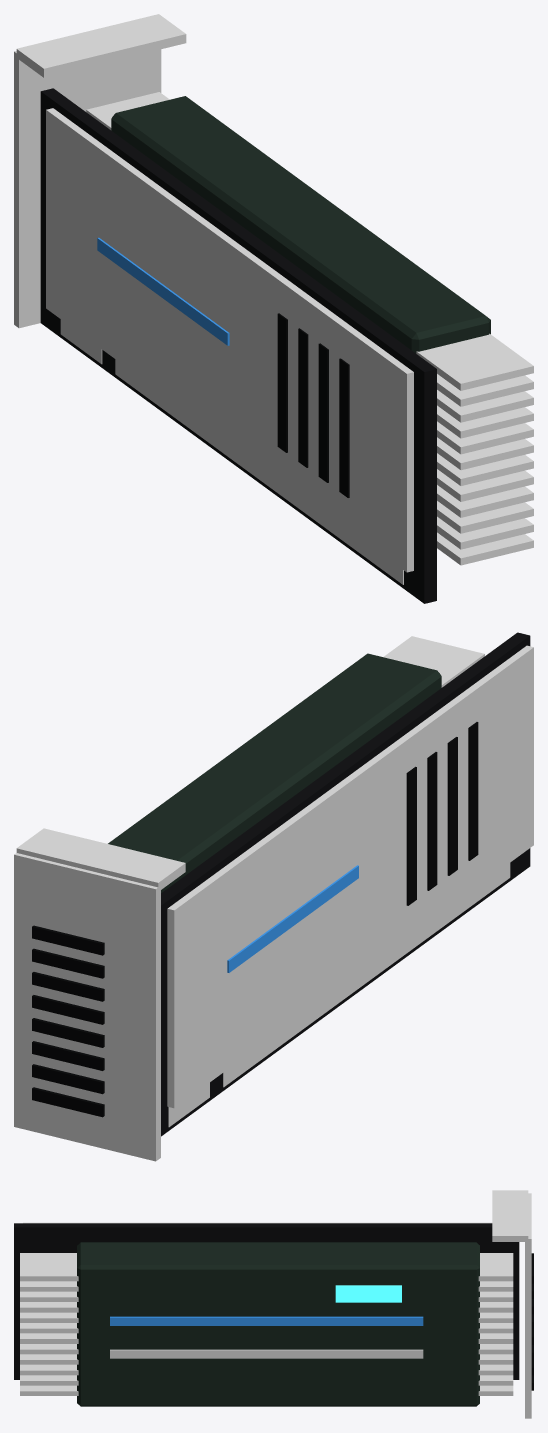
File: hw_gpu_t4.glb
3 renders of one model, top to bottom at view 1: azimuth 30°, elevation 25°; view 2: azimuth 150°, elevation 25°; view 3: azimuth 270°, elevation 25°, orthographic. The views are drawn at different scales.
Parts seen in each view (by area): view 1: Body; view 2: Body; view 3: Body.
Boxes of the visible parts, x1,y1,x2,y2 form: Body: [14, 14, 533, 603]; Body: [14, 632, 533, 1161]; Body: [14, 1190, 533, 1418].
Bounding box in the file's own units: 0.036 × 0.0671 × 0.1729.
